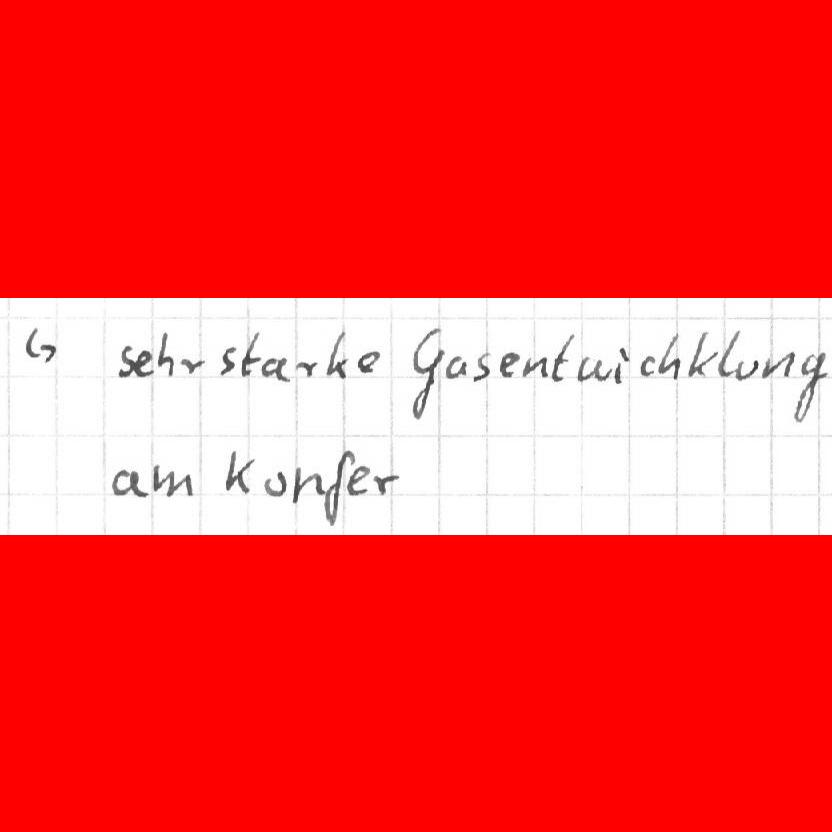Char: (408, 331, 443, 421), (790, 349, 829, 427), (321, 448, 353, 526), (222, 449, 256, 496), (292, 462, 326, 505), (152, 464, 191, 500), (323, 329, 350, 380), (22, 324, 56, 364), (688, 330, 714, 380), (716, 329, 740, 381), (111, 465, 147, 498), (575, 354, 615, 383), (240, 328, 261, 379), (657, 333, 680, 379), (552, 334, 574, 382), (760, 350, 796, 379), (345, 461, 371, 498), (155, 331, 174, 376), (262, 470, 286, 500), (612, 344, 629, 386), (115, 341, 134, 378), (372, 471, 399, 497), (444, 355, 470, 381), (356, 348, 381, 375), (217, 344, 238, 376), (523, 353, 548, 378), (262, 358, 290, 380), (293, 356, 316, 381), (179, 354, 205, 376), (498, 349, 519, 376), (472, 351, 491, 380), (735, 358, 758, 380), (637, 353, 657, 378), (134, 350, 153, 376)
